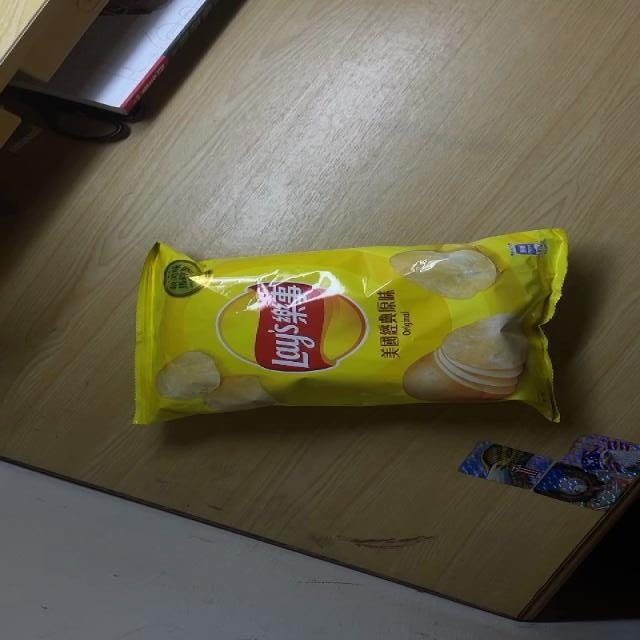Lay-s-original: (131, 228, 567, 429)
